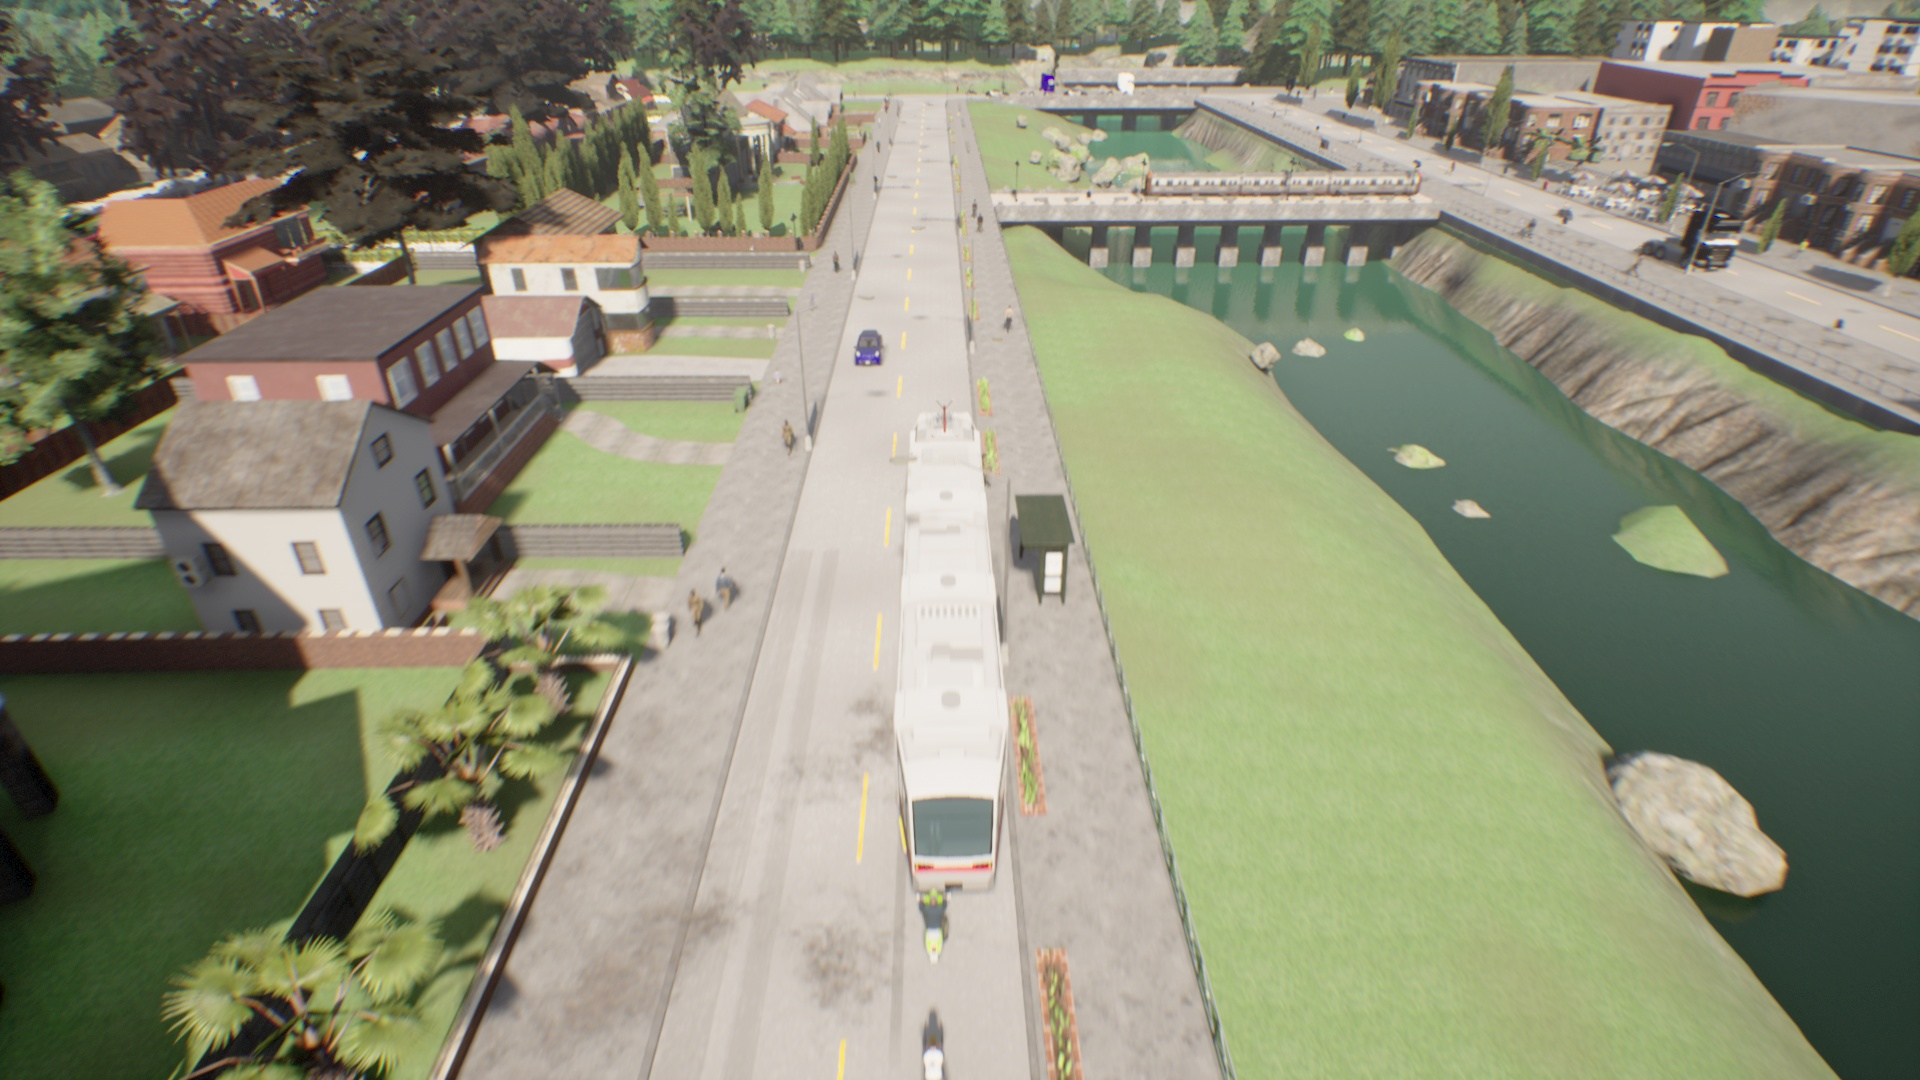Bus: (883, 407, 1008, 899)
Car: (849, 329, 886, 369), (1061, 86, 1092, 97), (988, 89, 1011, 98)
Motorcycle: (898, 881, 969, 976), (923, 1041, 949, 1079)
Truck: (1639, 205, 1743, 276), (1017, 74, 1058, 101), (1102, 75, 1141, 94)
